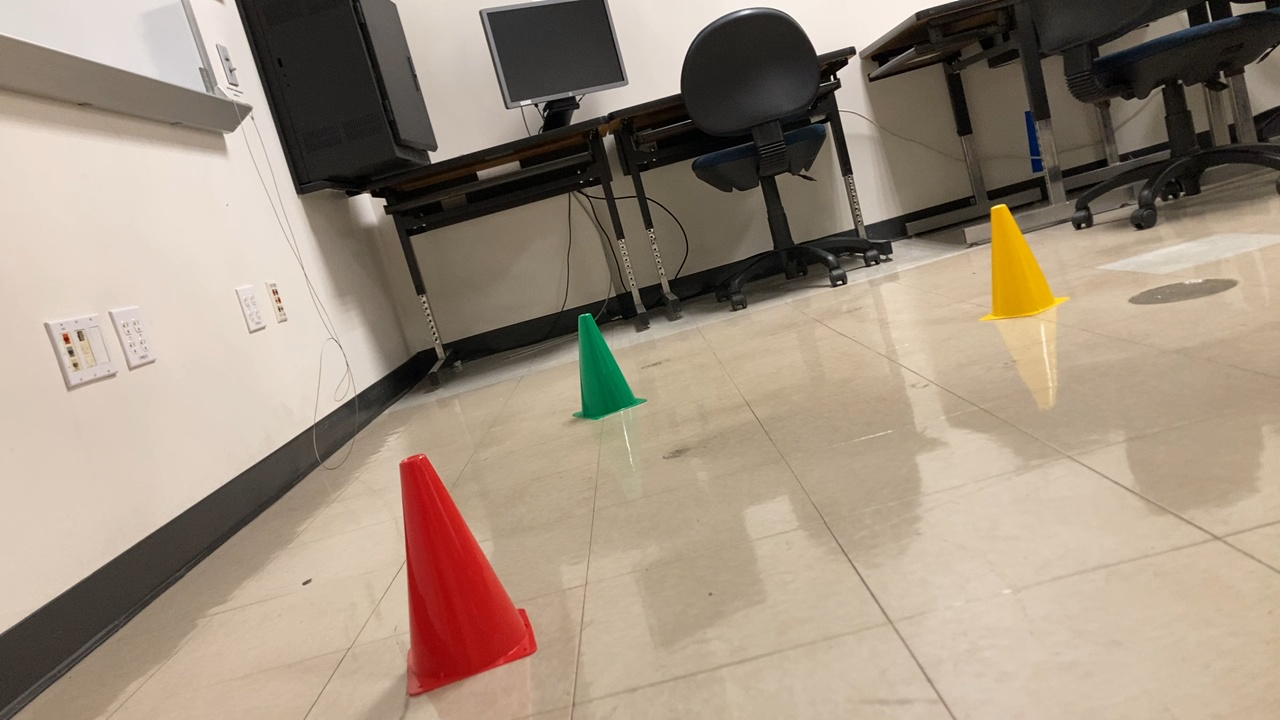green_cone: (561, 306, 654, 425)
red_cone: (382, 446, 545, 703)
yellow_cone: (971, 195, 1074, 329)
